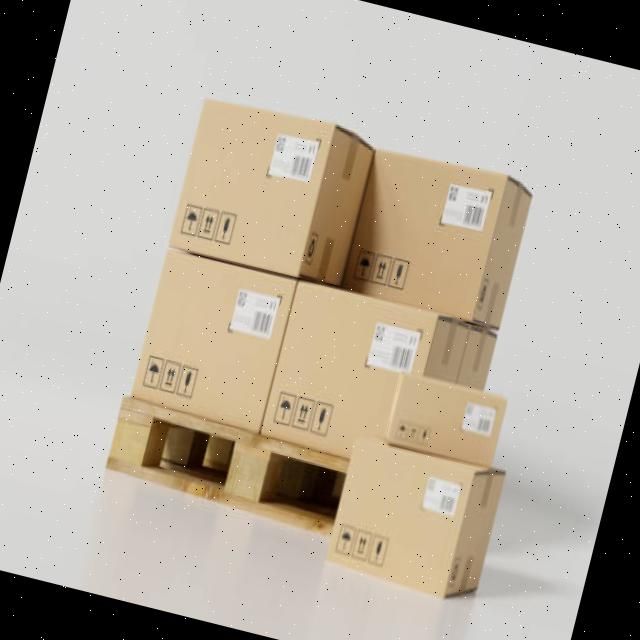Wooden-Pallets: (101, 393, 344, 546)
